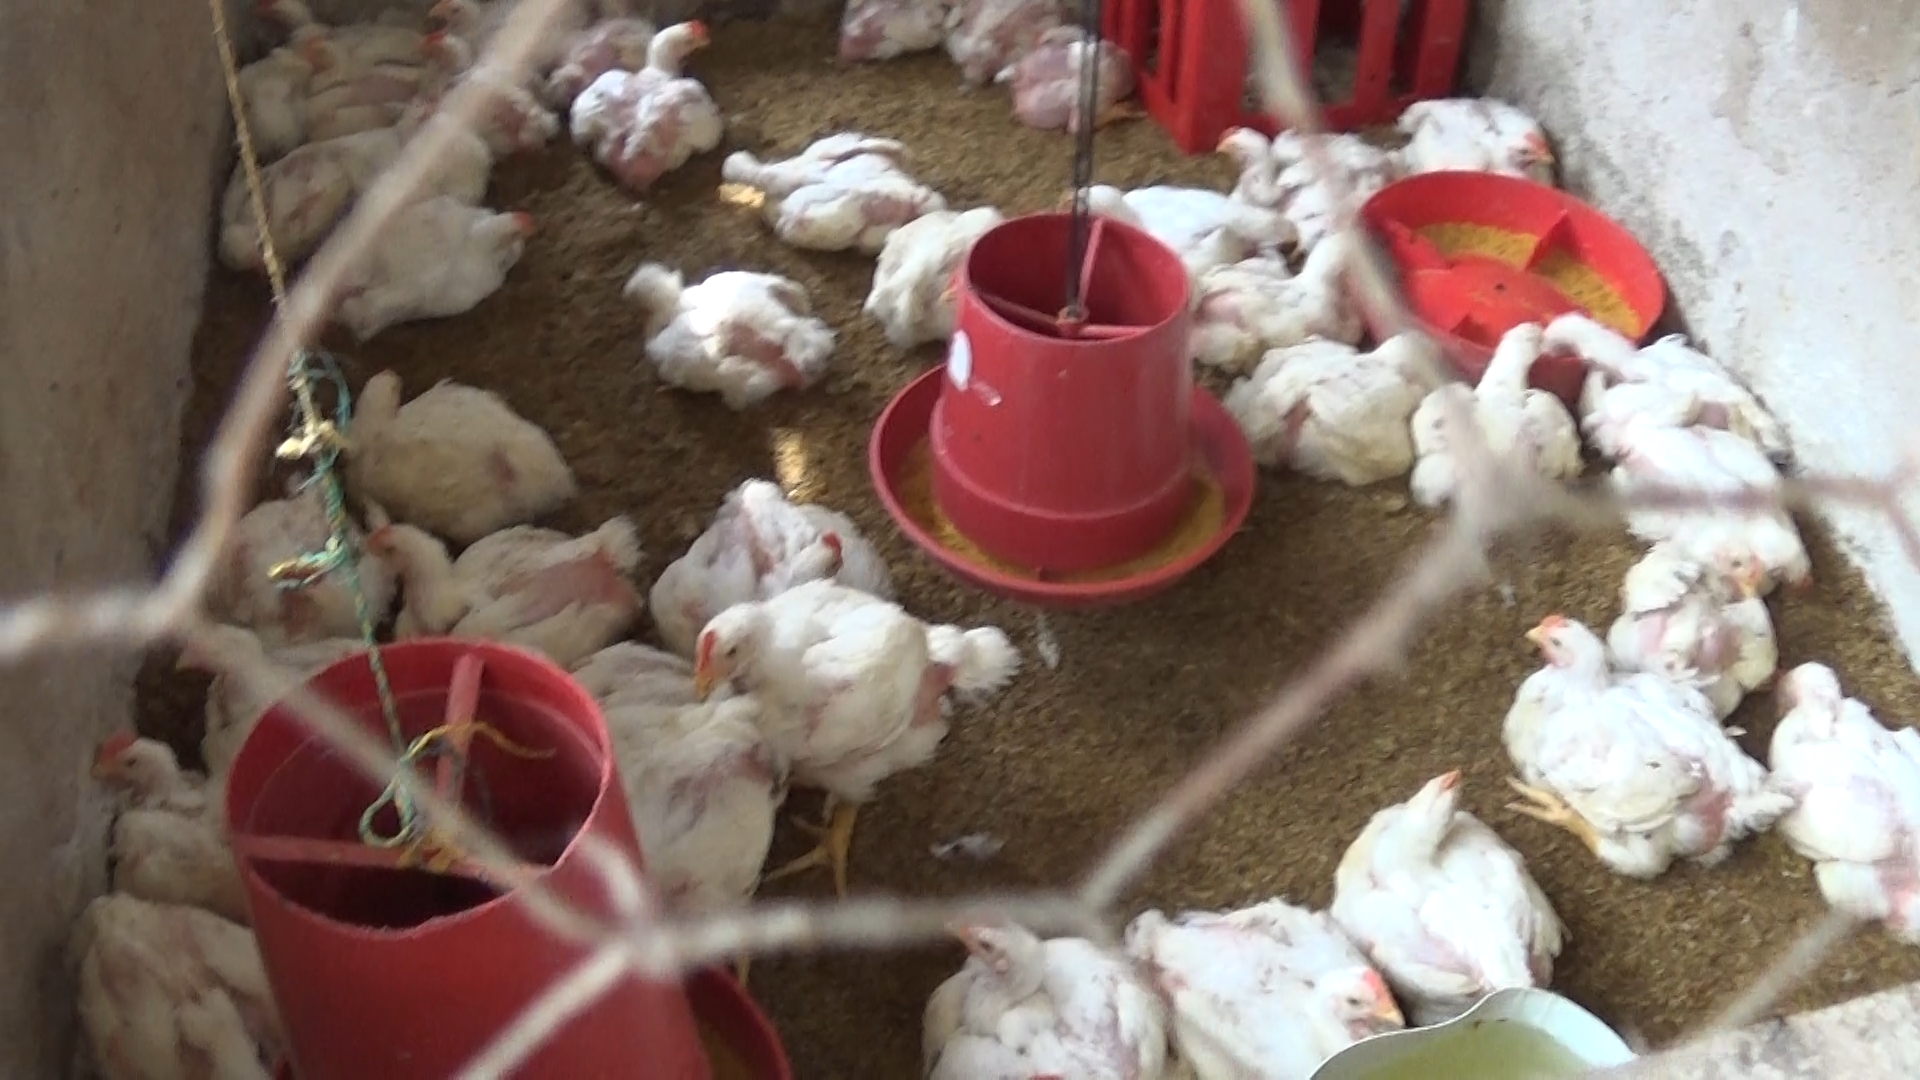Pollos: (684, 576, 1025, 899), (1493, 603, 1793, 880), (580, 636, 786, 945), (15, 884, 302, 1080), (1332, 760, 1567, 1000), (1124, 880, 1402, 1080), (349, 504, 666, 658), (650, 472, 920, 644), (328, 361, 582, 541), (924, 902, 1171, 1080), (1218, 323, 1445, 504), (1762, 658, 1911, 932), (1613, 400, 1818, 597), (600, 255, 840, 413), (76, 731, 274, 914), (1547, 295, 1791, 440), (334, 179, 551, 332), (1402, 323, 1576, 506), (717, 127, 951, 248), (1629, 512, 1789, 684), (574, 22, 723, 191), (861, 196, 1013, 357), (154, 611, 351, 735), (1058, 173, 1276, 268), (988, 24, 1142, 146), (407, 36, 553, 160), (1395, 87, 1557, 196), (1216, 113, 1367, 228), (290, 33, 415, 128), (258, 0, 345, 65)
